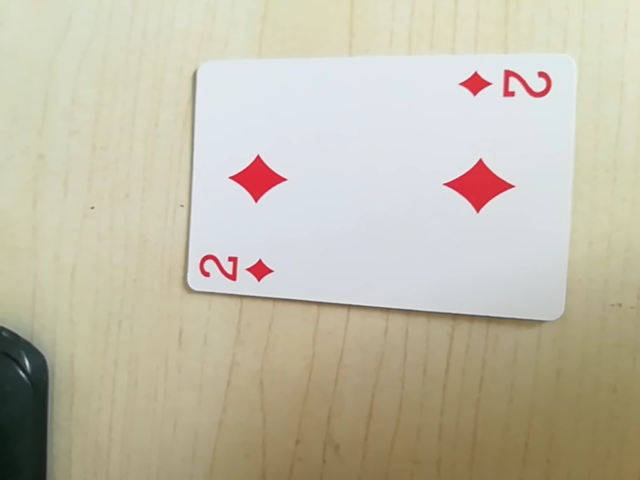fk 2: (459, 62, 556, 108), (194, 244, 280, 293)
